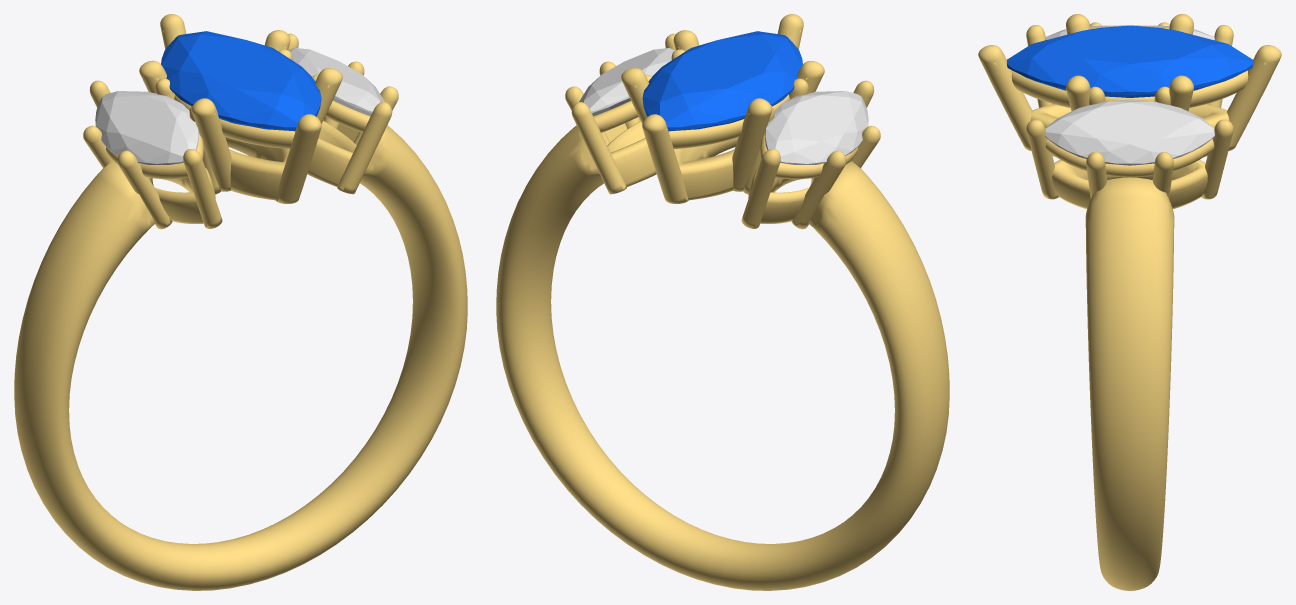
File: bluesapphire-marquise-yellowgold-6prong-taperedband-3stone.glb
The picture shows the model from 3 angles, left to right: view 1: azimuth 30°, elevation 25°; view 2: azimuth 150°, elevation 25°; view 3: azimuth 270°, elevation 25°; orthographic projection.
Parts seen in each view (by area): view 1: metal.001, stone.001, side.003, side.002; view 2: metal.001, stone.001, side.003, side.002; view 3: metal.001, stone.001, side.002, side.003.
Boxes of the visible parts, x1,y1,x2,y2 form: metal.001: [14, 14, 467, 590]; stone.001: [161, 31, 321, 131]; side.003: [95, 91, 198, 164]; side.002: [288, 48, 384, 116]; metal.001: [496, 14, 949, 590]; stone.001: [642, 31, 802, 131]; side.003: [765, 91, 868, 164]; side.002: [579, 48, 675, 116]; metal.001: [978, 14, 1281, 590]; stone.001: [1006, 25, 1253, 97]; side.002: [1045, 99, 1214, 165]; side.003: [1045, 25, 1214, 40].
Size of the model in its own units: 20.09 by 22.73 by 11.96.
